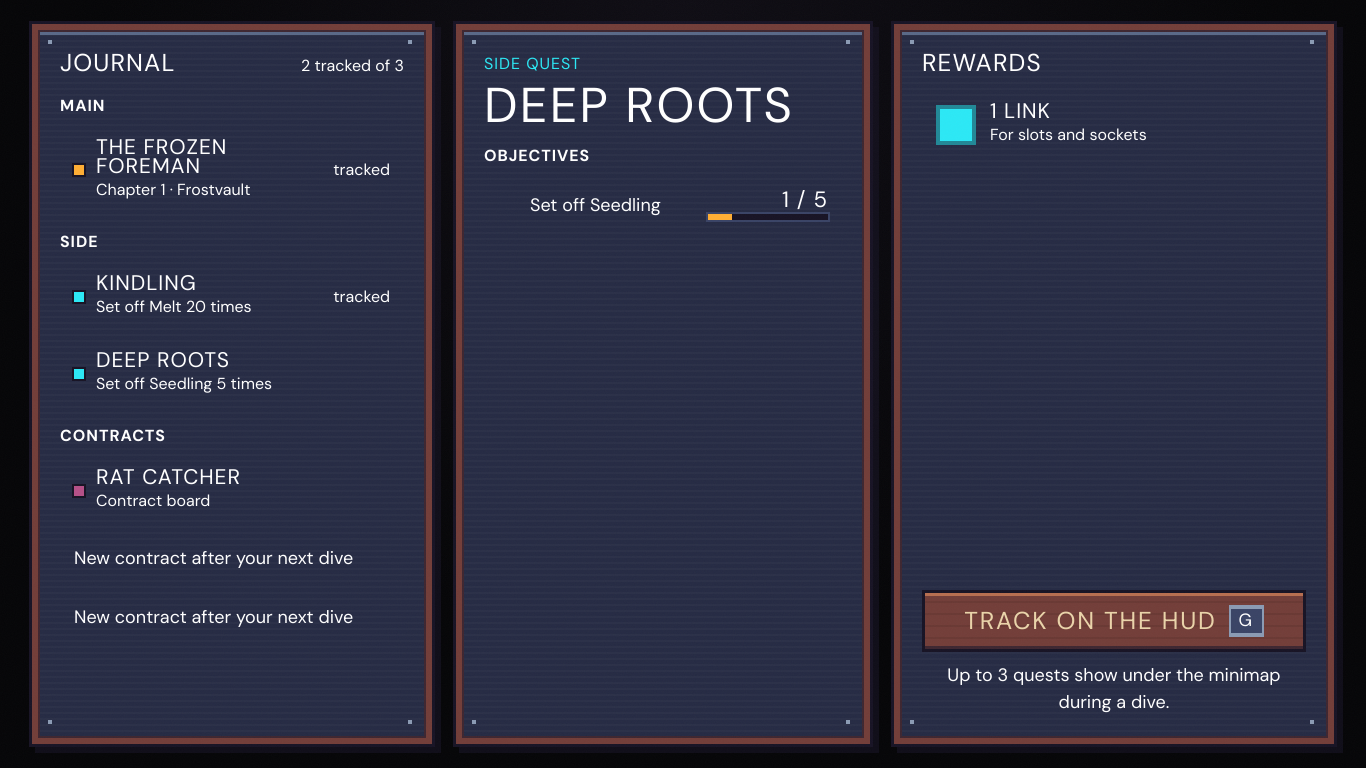
Scenario: QuestsTab › tracks on the HUD from the button and from G / Y, three at most
The width and height of the screenshot is (1366, 768).
Click the button with test id "quest-track" at [1114, 621], box 922,590 -> 1306,652
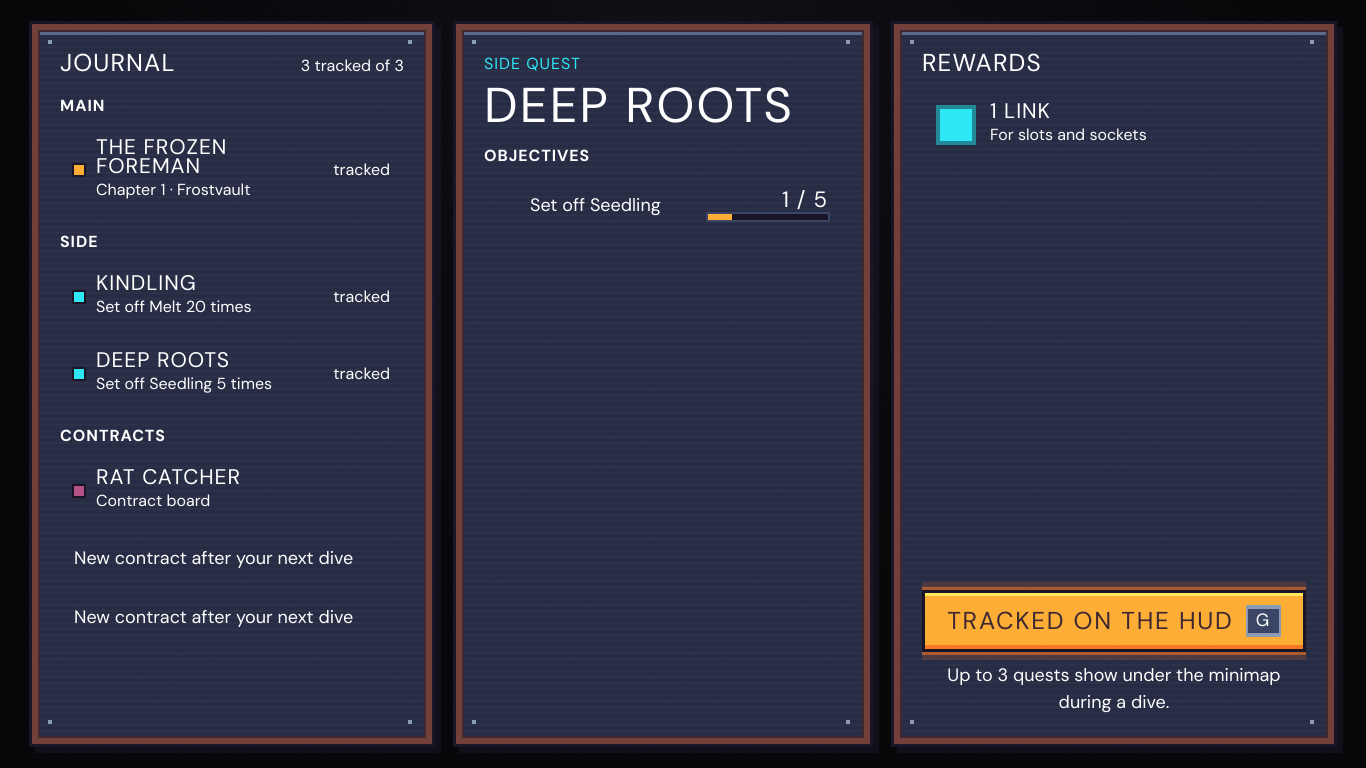
Check: the button with test id "quest-track" shows "Tracked on the HUD", box 922,590 -> 1306,652
Check: the text with test id "quests-tracked" reads "3 tracked of 3", box 301,54 -> 404,78
Click the button with test id "quest-rat-catcher" at [232, 490], box 60,456 -> 404,525
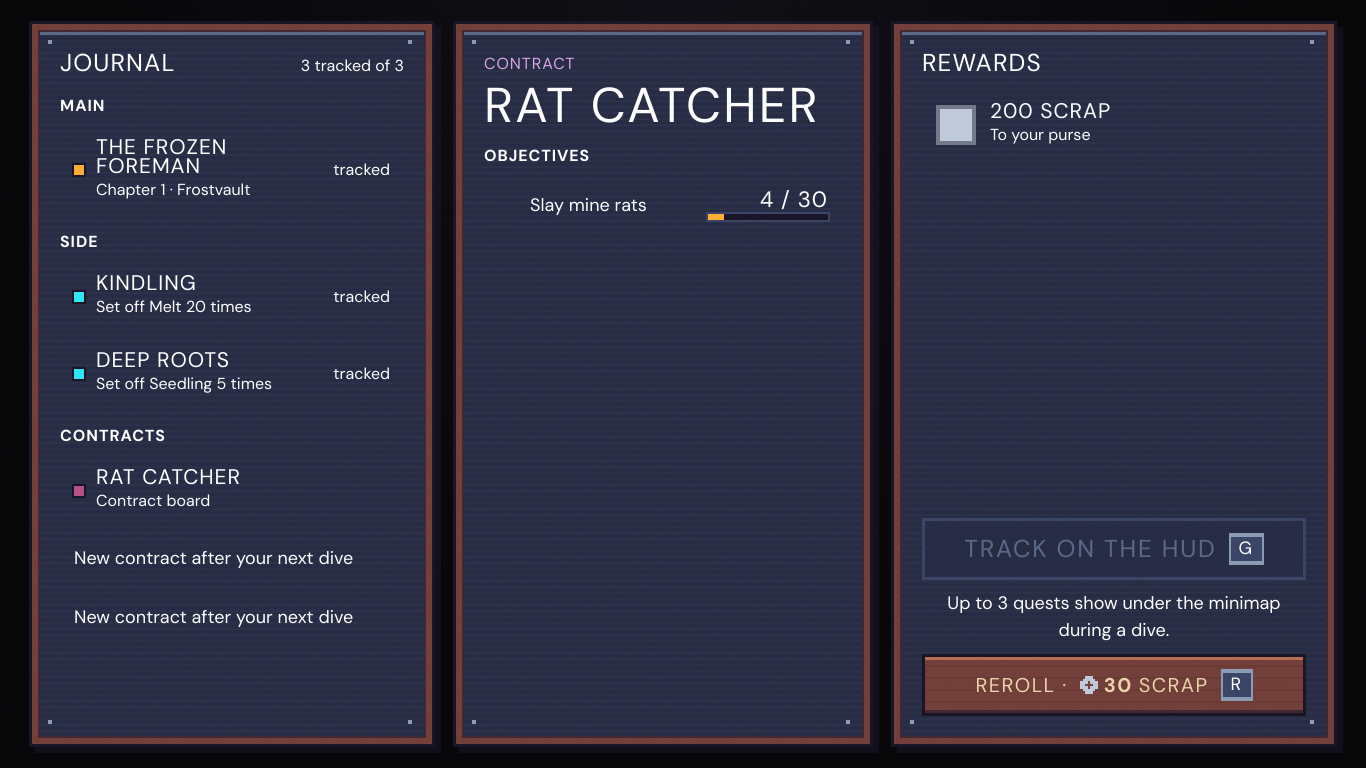
Check: the button with test id "quest-track" is disabled, box 922,518 -> 1306,580
Click the button with test id "quest-kindling" at [232, 296], box 60,262 -> 404,331
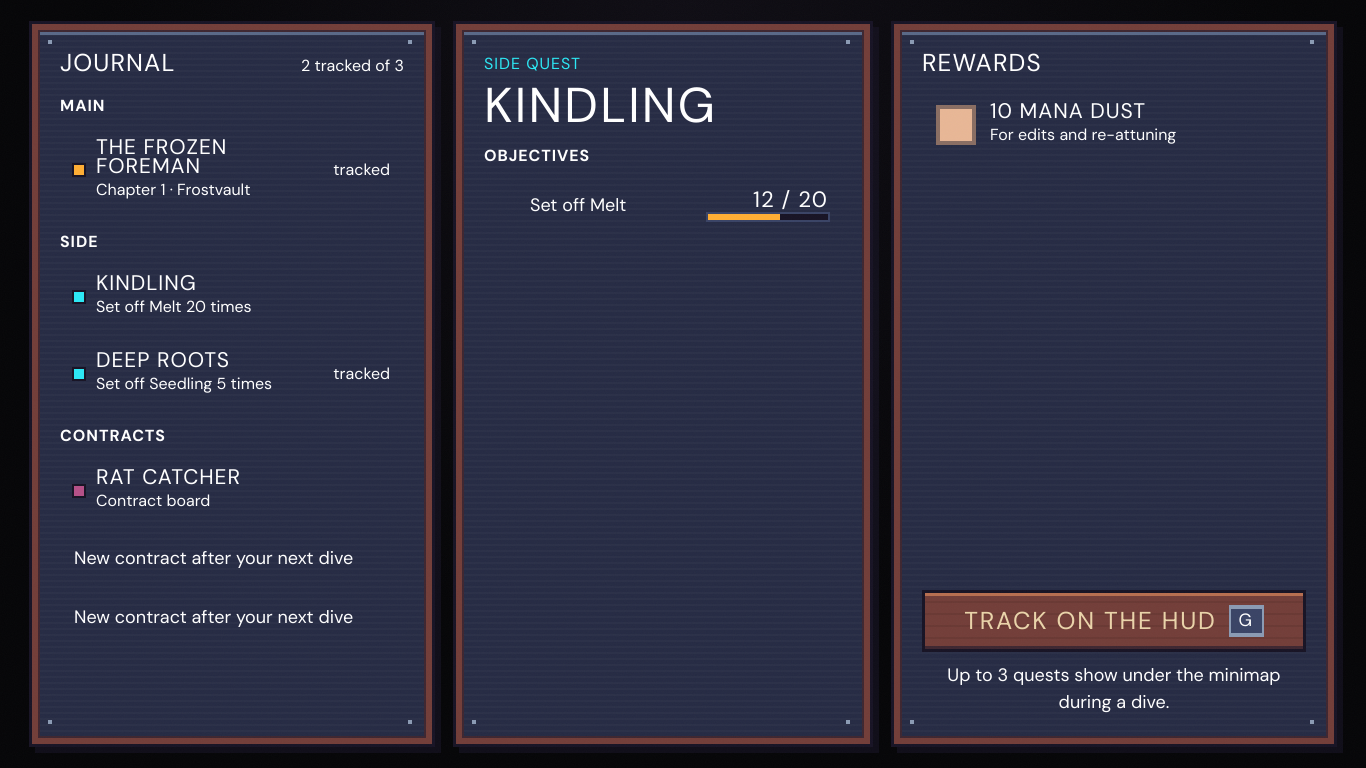
Check: the text with test id "quests-tracked" reads "2 tracked of 3", box 301,54 -> 404,78
